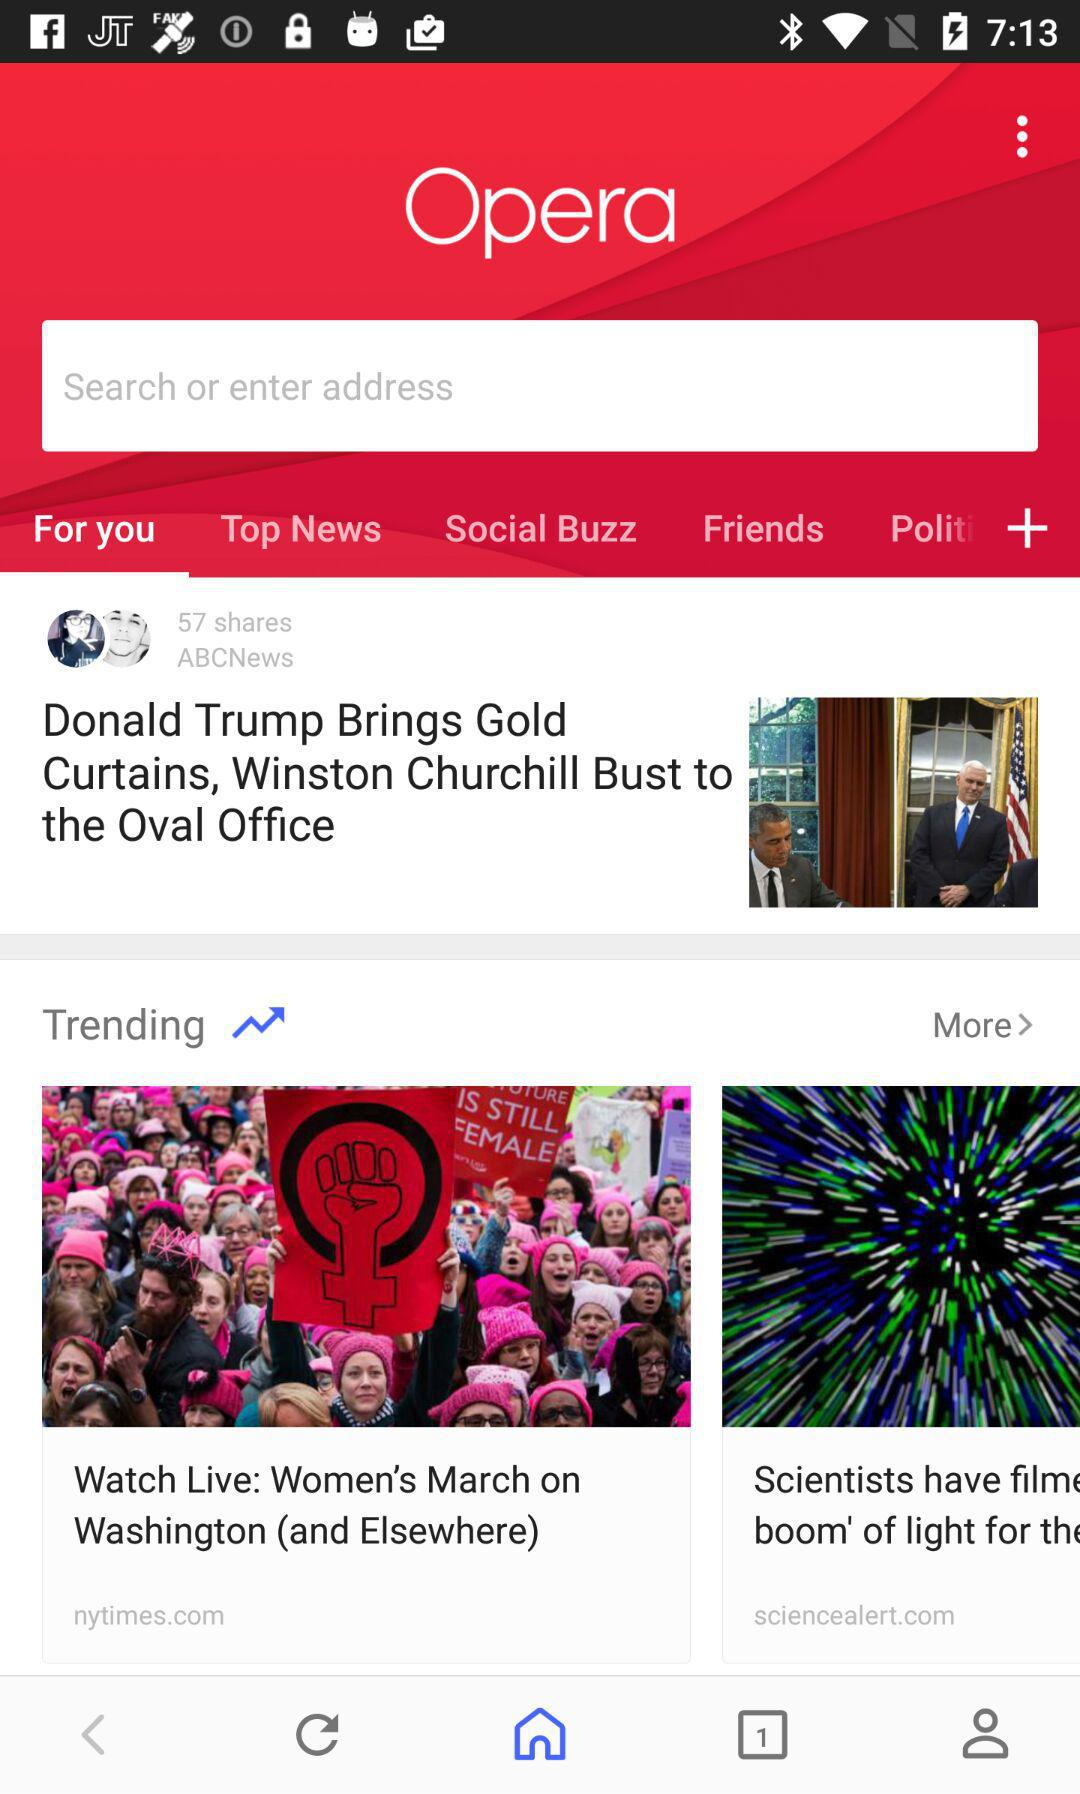Bottom_Navigation: (1, 1675, 1080, 1794)
EditText: (42, 320, 1039, 454)
Icon: (514, 1706, 568, 1762), (961, 1707, 1010, 1759), (295, 1712, 340, 1757), (232, 1007, 286, 1041), (1007, 507, 1049, 550), (81, 1713, 108, 1756), (1015, 115, 1029, 161), (1017, 1012, 1033, 1037)
Image: (42, 1085, 692, 1428), (723, 1087, 1080, 1428), (749, 697, 1039, 909), (47, 610, 152, 670), (737, 1709, 789, 1761)
Text: (42, 701, 733, 844), (74, 1463, 582, 1553), (755, 1463, 1080, 1553), (405, 167, 676, 261), (64, 373, 454, 402), (44, 1007, 205, 1049), (445, 513, 638, 545), (220, 515, 382, 551), (755, 1603, 956, 1627), (35, 515, 156, 552), (74, 1606, 225, 1633), (705, 513, 824, 545), (179, 611, 293, 634), (177, 647, 295, 669), (890, 513, 967, 545), (934, 1011, 1012, 1041)
UpperTaskBar: (1, 1, 1080, 64)
